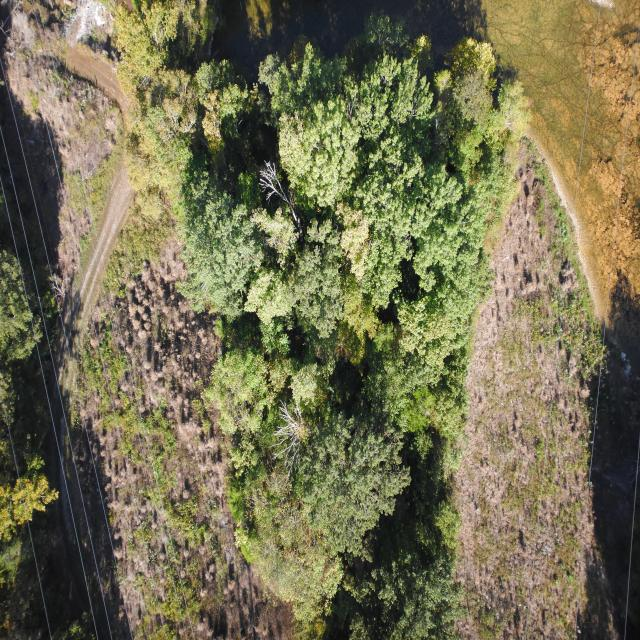Area of Interest: (180, 42, 495, 632)
